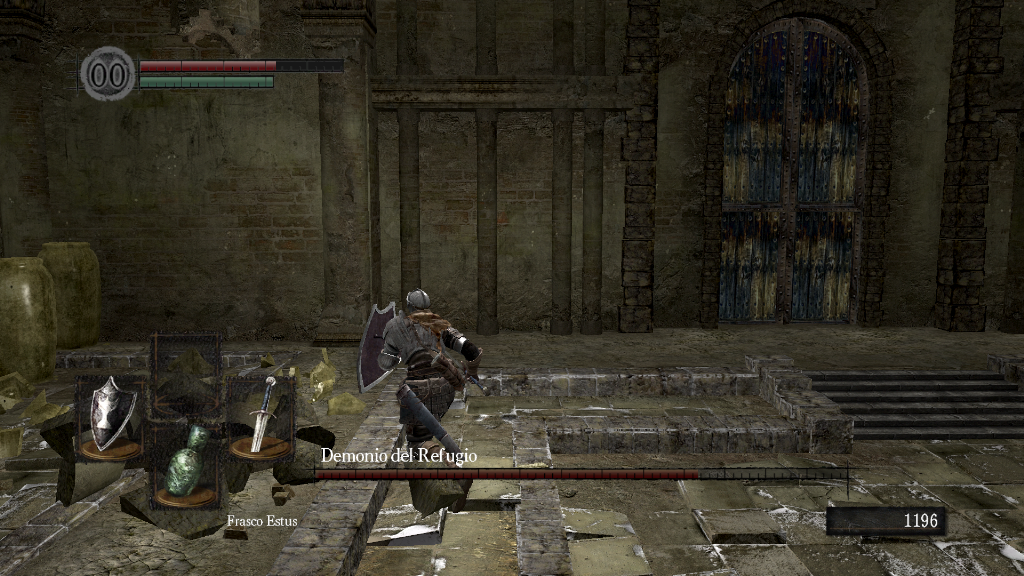bossHP: (314, 469, 847, 479)
health: (138, 58, 343, 71)
humanity: (80, 45, 136, 102)
player: (356, 286, 493, 468)
souls: (825, 506, 945, 536)
stamina: (138, 74, 274, 88)
